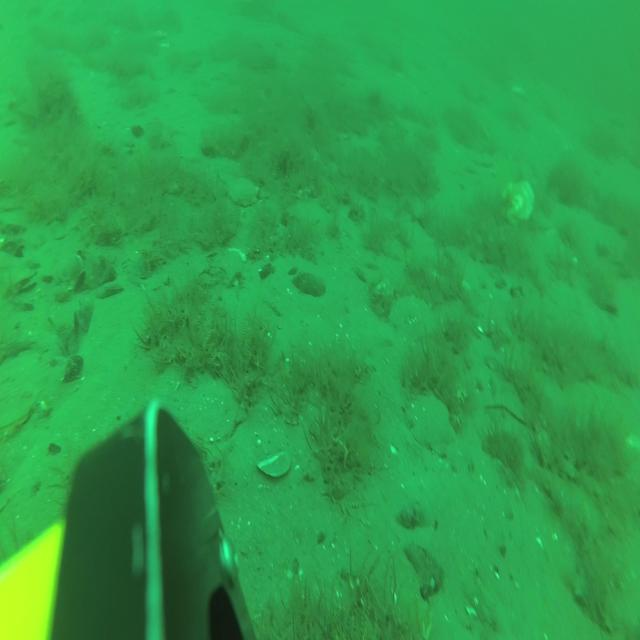scallop: (188, 377, 246, 440), (406, 393, 454, 445), (503, 182, 532, 224), (228, 175, 258, 204), (511, 83, 525, 97)
